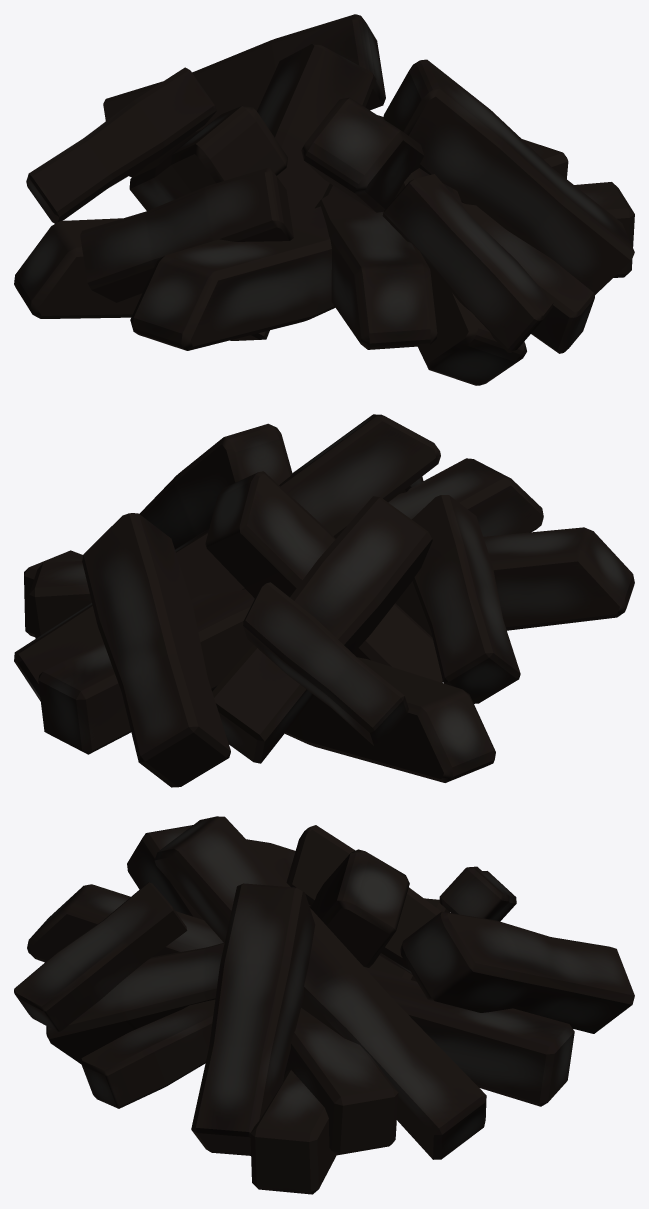
File: burntfries.fbx
3 renders of one model, top to bottom at view 1: azimuth 30°, elevation 25°; view 2: azimuth 150°, elevation 25°; view 3: azimuth 270°, elevation 25°, orthographic. The views are drawn at different scales.
Visible parts, largest first — view 1: frypileburnt; view 2: frypileburnt; view 3: frypileburnt.
Part boxes in pixels (bbox=[...]): frypileburnt: bbox=[14, 14, 634, 385]; frypileburnt: bbox=[14, 414, 634, 787]; frypileburnt: bbox=[14, 816, 634, 1194].
Size of the model in its own units: 5.95 by 2.8 by 6.39.
Materials: 1 (1 with a texture image).
